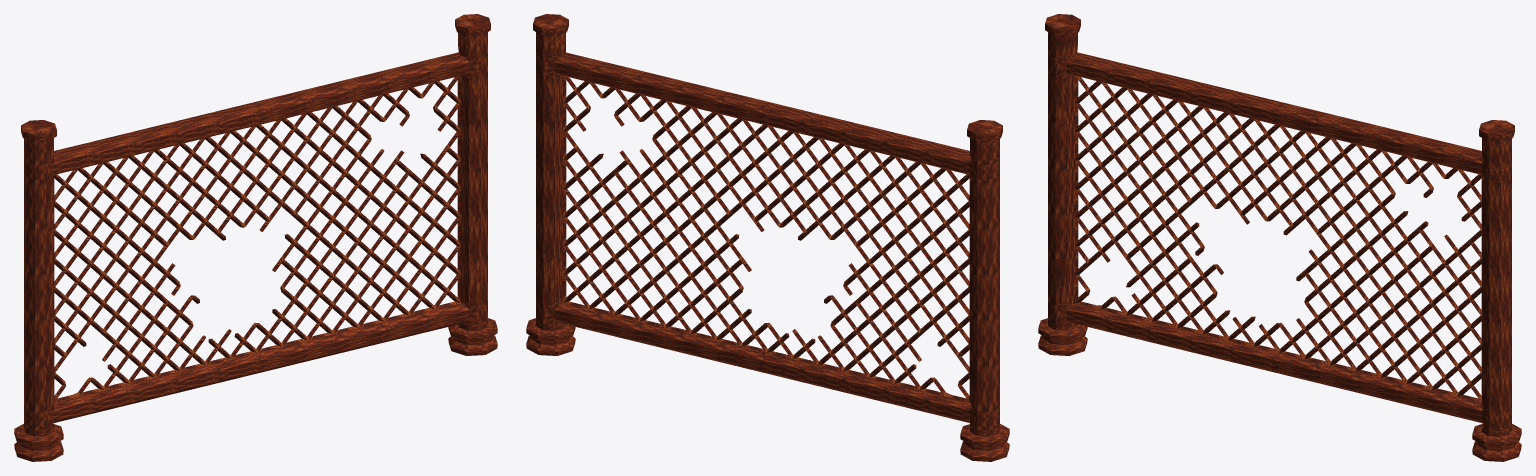
The model's file is ironwall03.fbx.
3 views of the same model, side by side, from view 1: azimuth 30°, elevation 25°; view 2: azimuth 150°, elevation 25°; view 3: azimuth 330°, elevation 25° (orthographic).
Parts seen in each view (by area): view 1: fence, surface; view 2: fence, surface; view 3: fence, surface.
Part boxes in pixels (left/top/right/bottom): fence: left=14, top=14, right=497, bottom=461; surface: left=52, top=76, right=460, bottom=402; fence: left=526, top=14, right=1009, bottom=461; surface: left=563, top=76, right=969, bottom=402; fence: left=1038, top=14, right=1521, bottom=461; surface: left=1075, top=76, right=1483, bottom=402.
Bounding box in the file's own units: 551 × 357 × 51.25.
